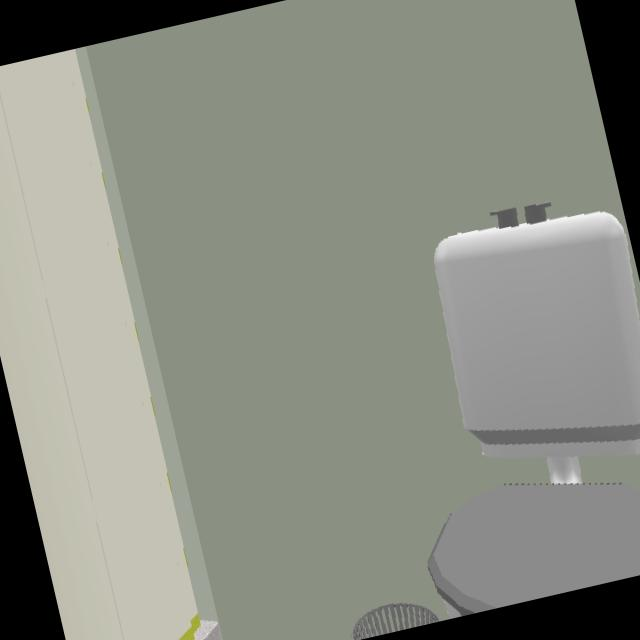shower: (0, 48, 222, 640)
toilet: (427, 205, 640, 615)
